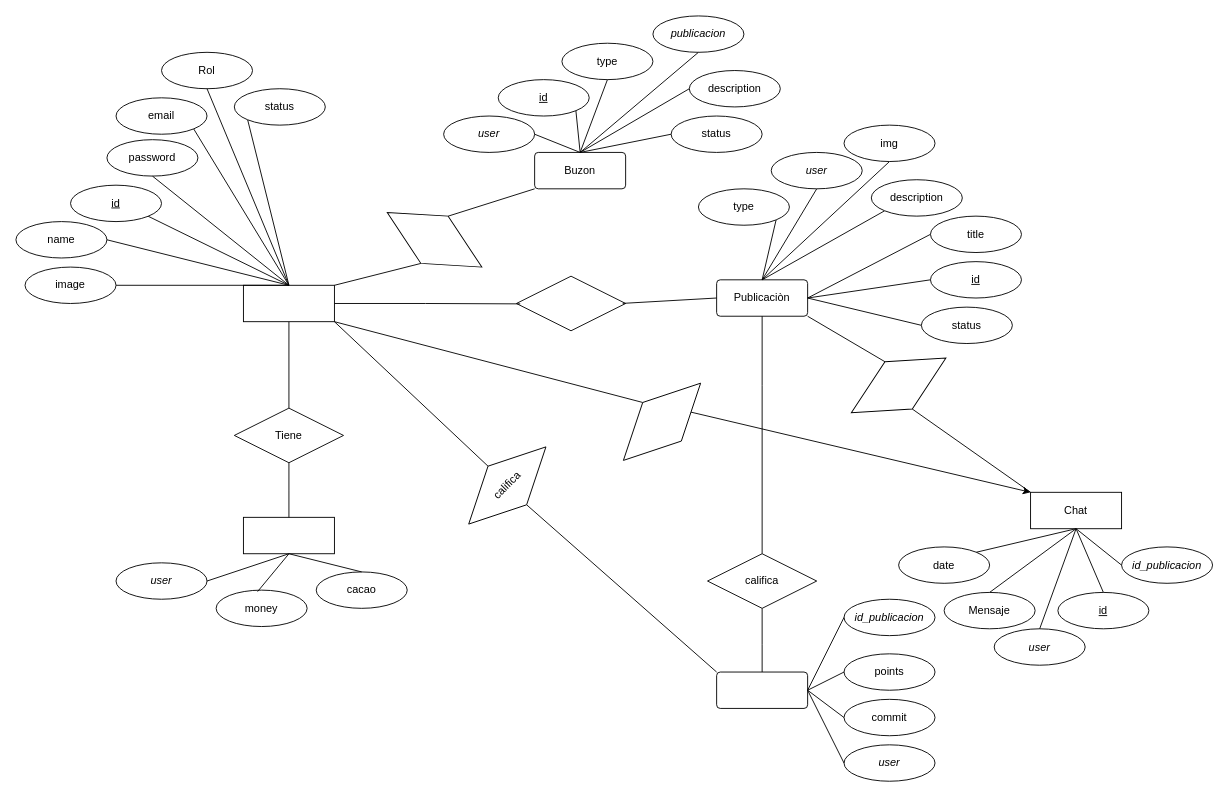
The diagram is 1229 pixels wide and 797 high, and some of its shapes have lost their labels. The shapes that lost their labels are listed below. From the top down, each one's box as (x1, y1, x2, y2) in pixels, then its label:
(373, 188, 496, 291): Confirma
(243, 284, 334, 322): Person
(516, 275, 626, 331): Crear
(837, 333, 960, 436): Tener
(603, 363, 720, 480): conversa
(243, 516, 334, 554): Bank
(716, 671, 808, 708): Value
